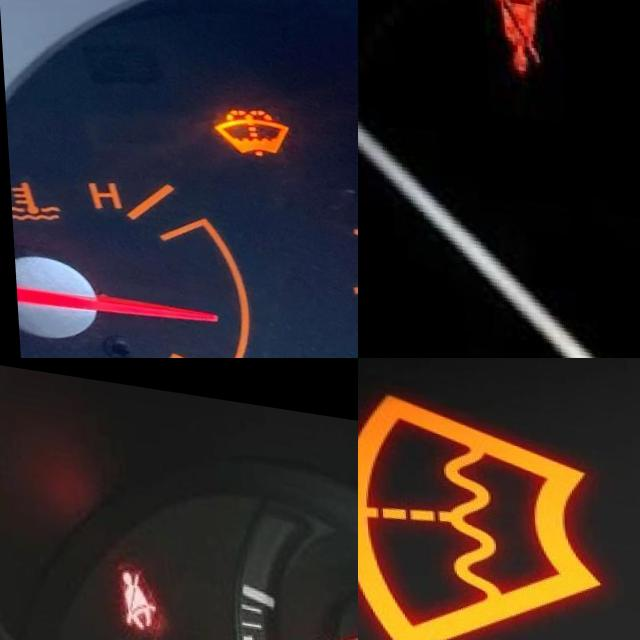High Engine Coolant Temperature: (5, 177, 54, 228)
Seat Belt: (488, 0, 548, 61), (113, 555, 155, 620)
Washer Fluid: (358, 370, 600, 640)
